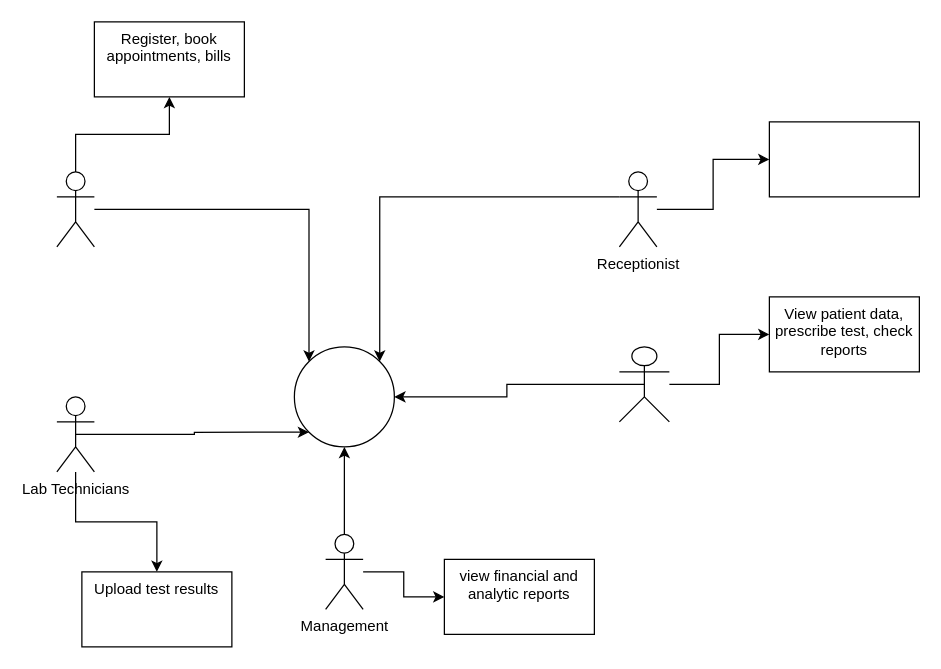
This 941x669 diagram has some shape labels left out. The shapes that lost their labels are listed below. From the top down, each one's centre as x and y in pixels, then its label:
the point at 843,159: schedules, patient records
the point at 75,209: Patients
the point at 643,384: Doctor
